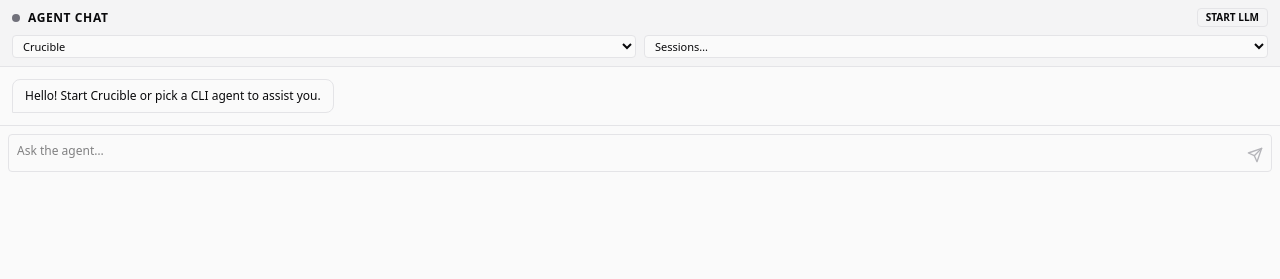
Scenario: AgentChatUI › handles prompt submission in fallback mode
This screenshot has width=1280, height=279.
In the text box with placeholder "Ask the agent…": (640, 153) [9,135,1271,171], type "File system parsing test"
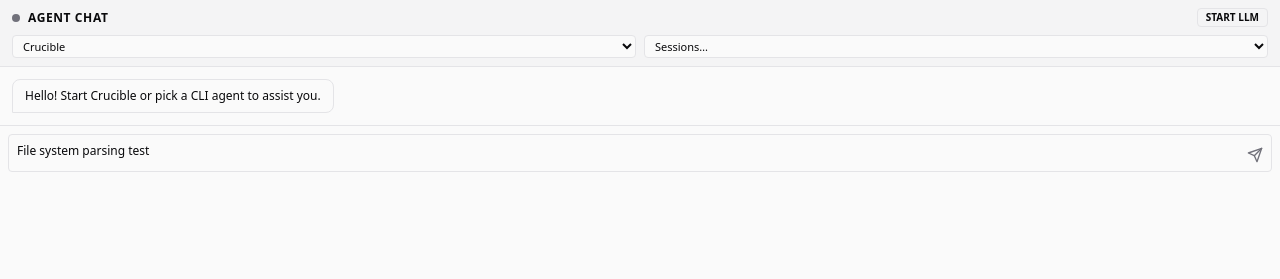
Click the button named "Send Message": (1255, 155) [1247,147,1263,163]
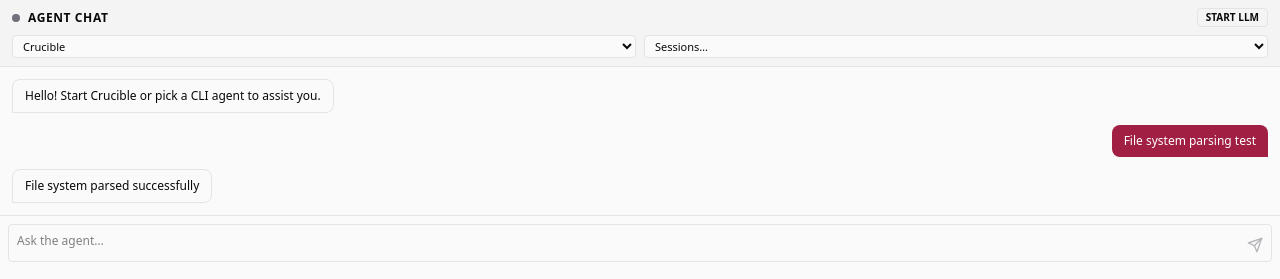
Result: the text "File system parsed successfully" is shown at [25,178,199,194]
